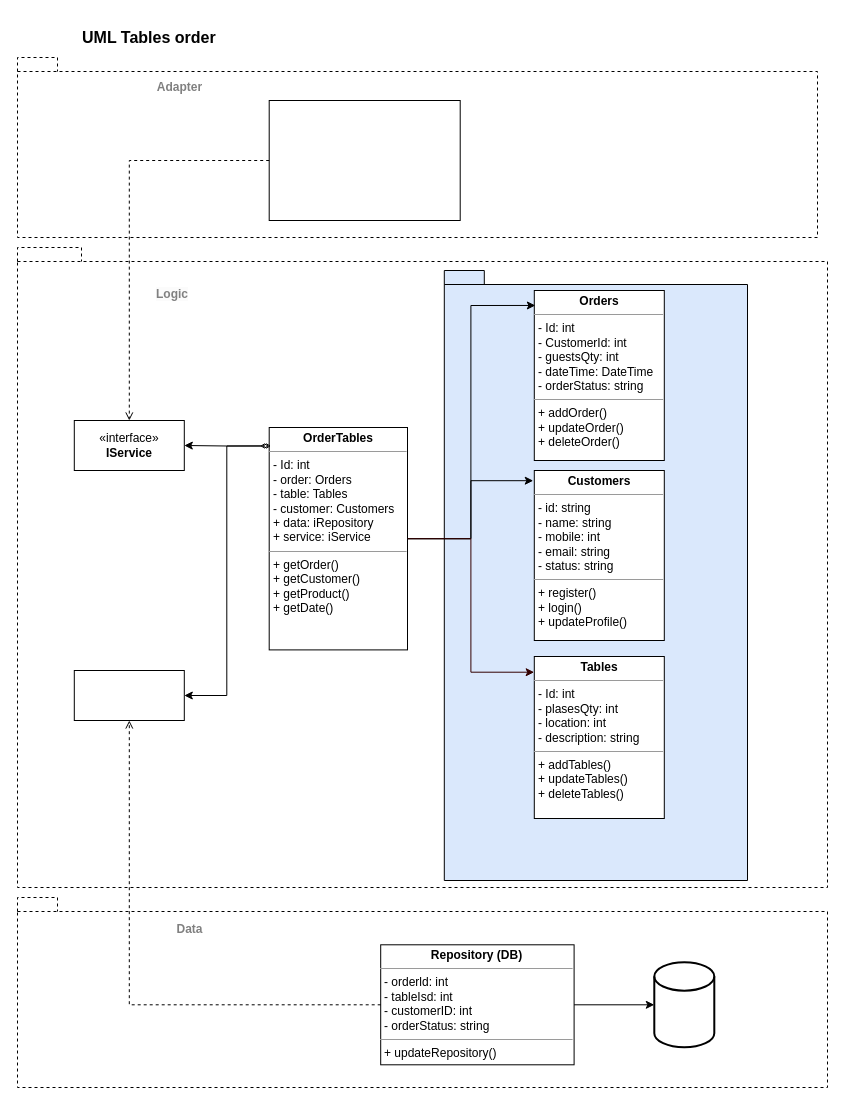
Some shapes in this 845 by 1105 pixel diagram are drawn without their labels. The centre of each missing label's shape, as x and y in pixels:
Adapter + respnce: Strind + cnvert(List<Order>: String: point (364, 160)
«interface» IRepository: point (128, 695)
